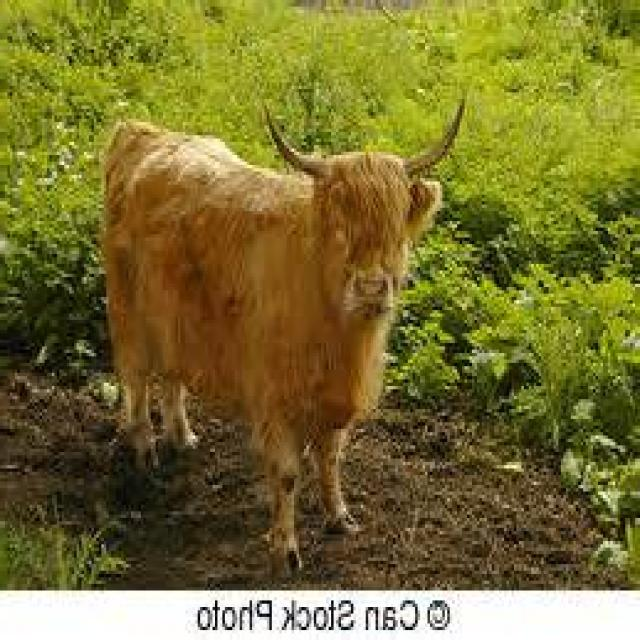cow: (102, 89, 470, 553)
